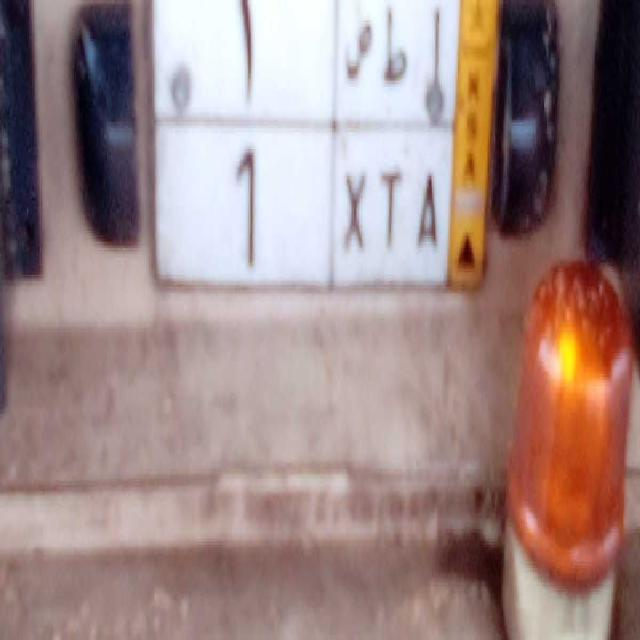license_plate: (156, 118, 450, 295)
